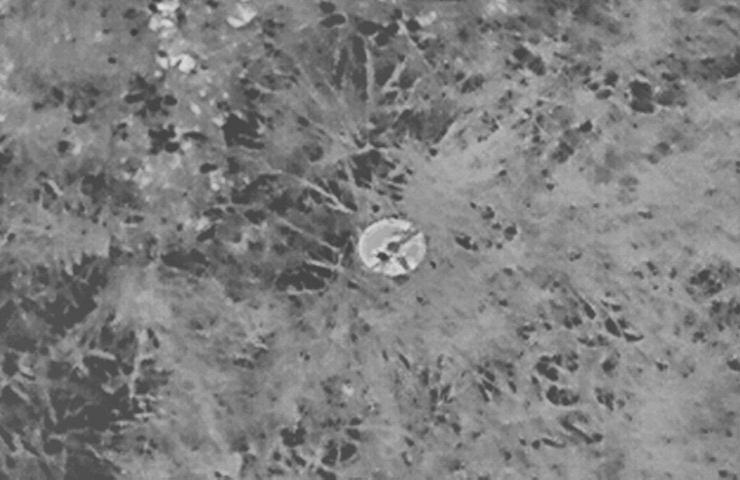landmines: (357, 217, 430, 279)
